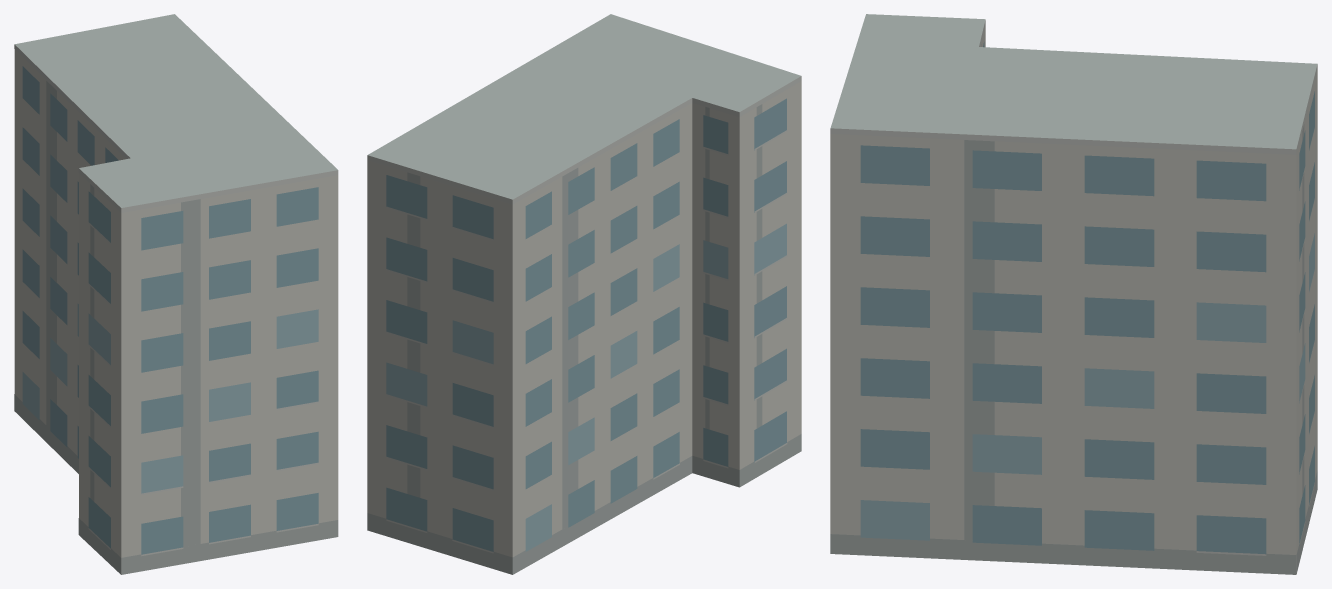
Rendered from survey-upis-32802937.glb.
3 renders of one model, left to right at view 1: azimuth 30°, elevation 25°; view 2: azimuth 150°, elevation 25°; view 3: azimuth 270°, elevation 25°, orthographic. The views are drawn at different scales.
Visible parts, largest first — view 1: survey-upis-32802937.tmp; view 2: survey-upis-32802937.tmp; view 3: survey-upis-32802937.tmp.
Part boxes in pixels (<box>): survey-upis-32802937.tmp: <box>14,14,338,574</box>; survey-upis-32802937.tmp: <box>367,14,801,574</box>; survey-upis-32802937.tmp: <box>830,14,1317,574</box>.
Size of the model in its own units: 12.56 by 18.4 by 19.1.
